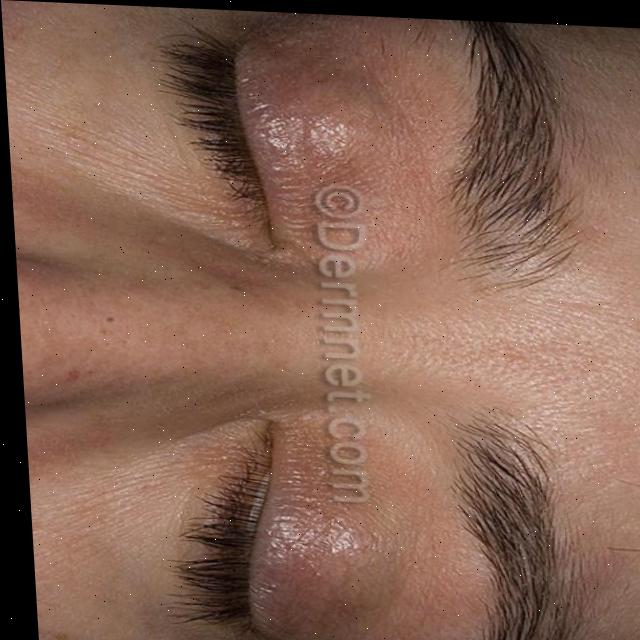Eczema: (273, 493, 399, 640), (307, 26, 361, 191)
